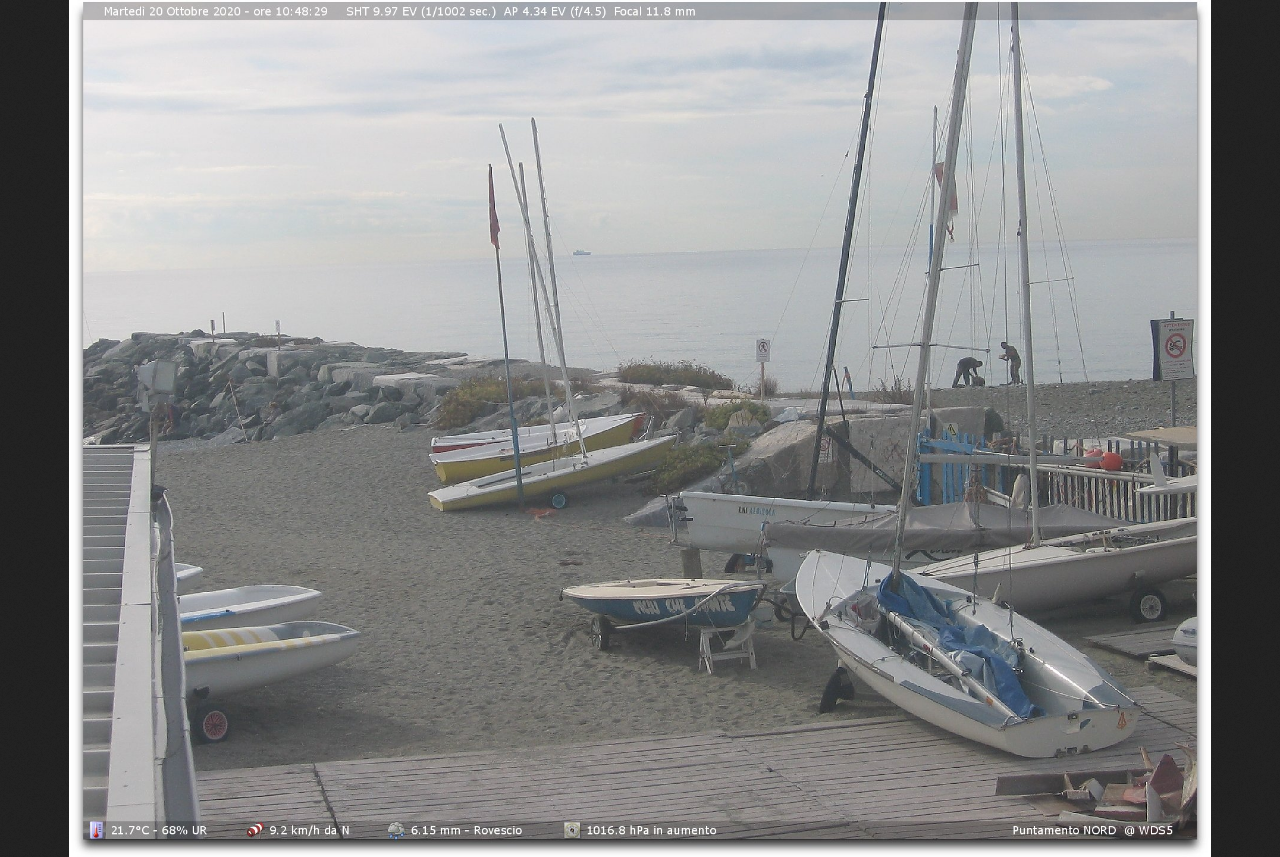no: (482, 157, 512, 250)
